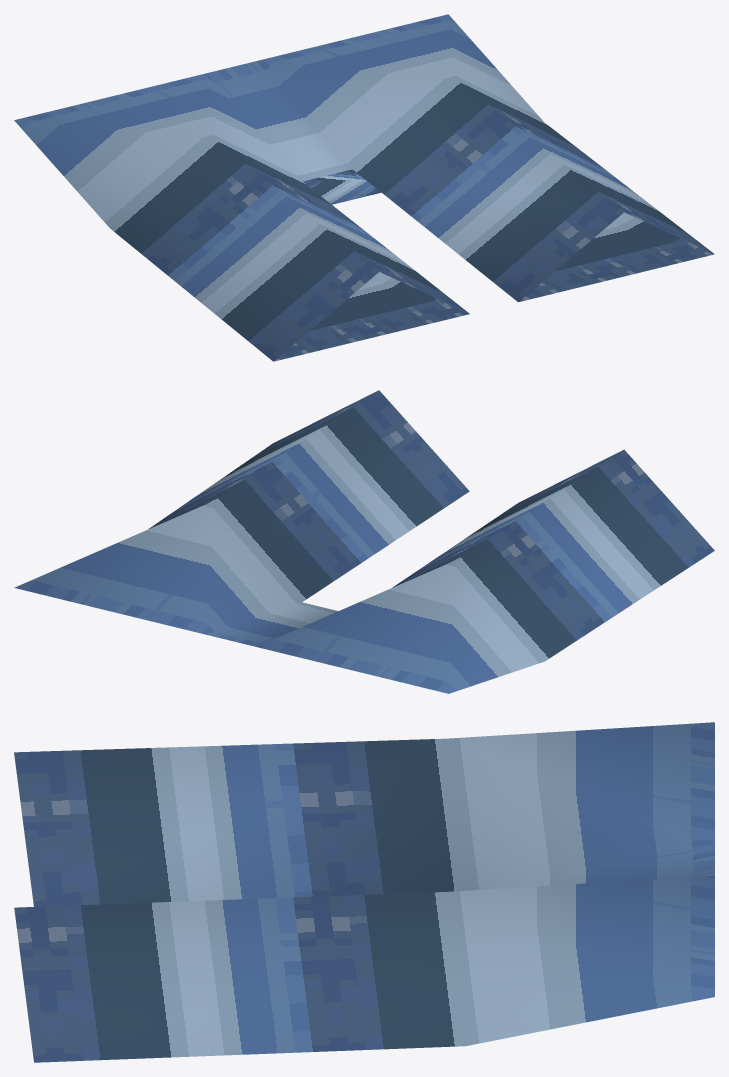
Rendered from 2079pants000_r.gltf.
3 views of the same model, one above another, from view 1: azimuth 30°, elevation 25°; view 2: azimuth 150°, elevation 25°; view 3: azimuth 270°, elevation 25° (orthographic). The views are drawn at different scales.
Parts seen in each view (by area): view 1: 2079pants000_r; view 2: 2079pants000_r; view 3: 2079pants000_r.
Boxes of the visible parts, x1=… form: 2079pants000_r: x1=14, y1=14, x2=714, y2=361; 2079pants000_r: x1=14, y1=390, x2=714, y2=693; 2079pants000_r: x1=14, y1=722, x2=714, y2=1062.
Size of the model in its own units: 0.7793 by 0.1667 by 0.8264.
1 material, 1 textured.
